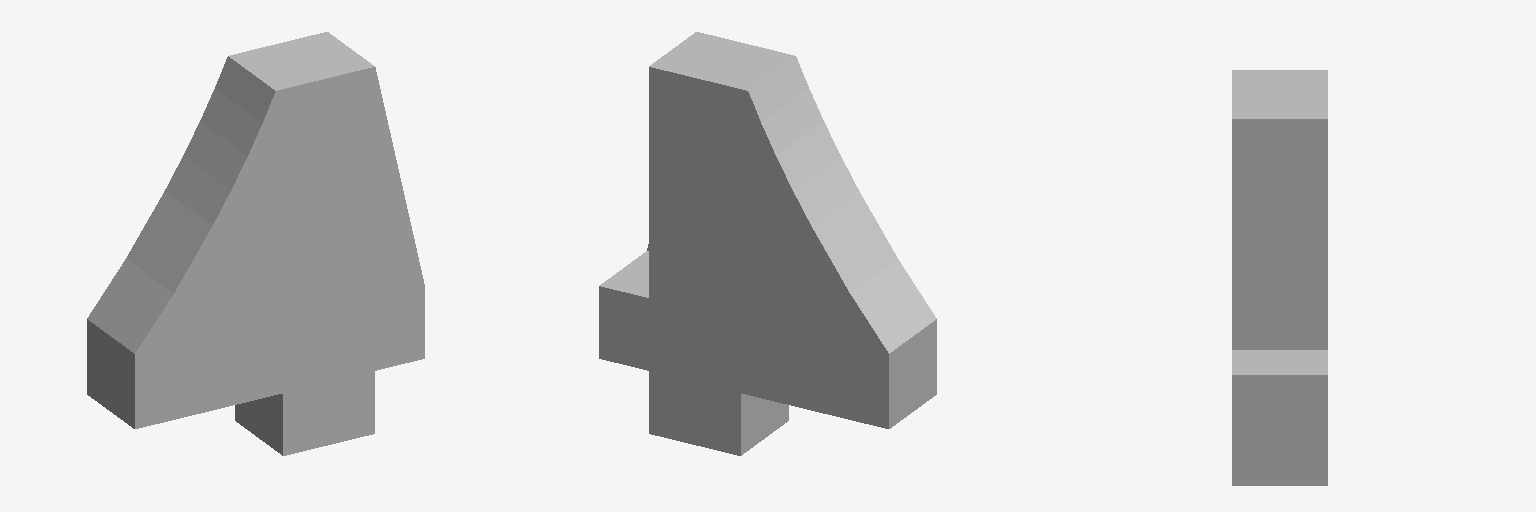
3 views of the same model, side by side, from view 1: azimuth 30°, elevation 25°; view 2: azimuth 150°, elevation 25°; view 3: azimuth 270°, elevation 25° (orthographic).
Visible parts, largest first — view 1: typeMesh1; view 2: typeMesh1; view 3: typeMesh1.
Part boxes in pixels (x1,y1,x2,y2): typeMesh1: (87,32,424,455); typeMesh1: (599,32,936,455); typeMesh1: (1232,70,1327,485).
Size of the model in its own units: 8.75 by 10.58 by 2.5.